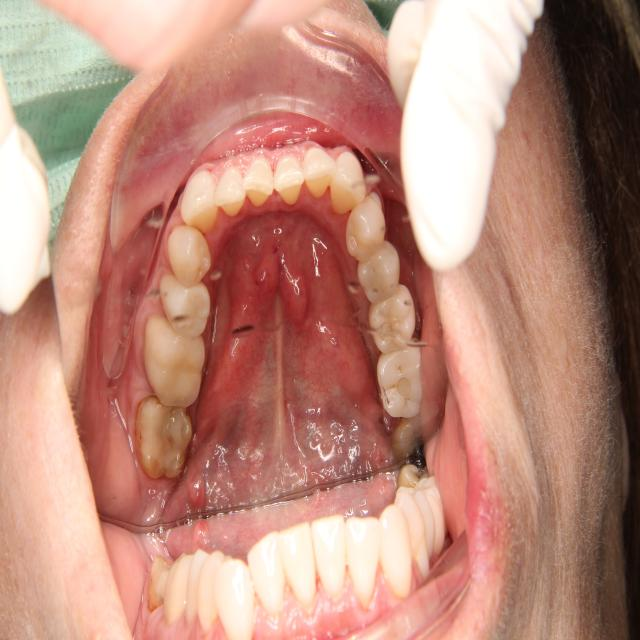tooth: (138, 303, 219, 431), (132, 383, 195, 492), (160, 212, 221, 302), (369, 340, 430, 427), (339, 188, 393, 277), (367, 280, 424, 364), (156, 268, 214, 345), (350, 240, 406, 315), (235, 143, 283, 221), (293, 136, 344, 207), (176, 164, 223, 236), (206, 159, 253, 230), (386, 403, 435, 470), (328, 147, 370, 223), (271, 143, 313, 217)
